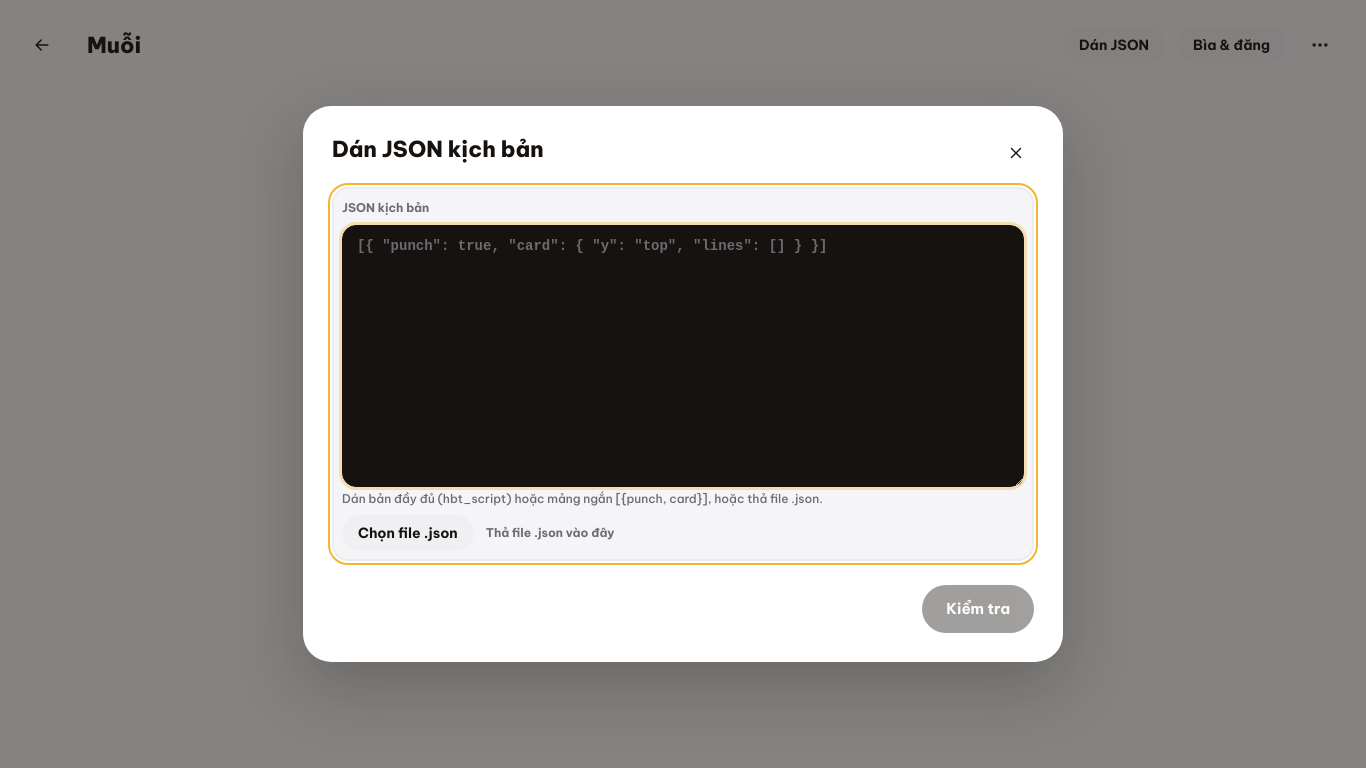
Test: PasteJsonDialog — Dán và Kiểm tra › marks K10 block warnings as "Sẽ chặn xuất"
The image size is (1366, 768).
Type "[]" into the text box labelled "JSON kịch bản". click: (683, 356)
box: [342,225,1024,487]
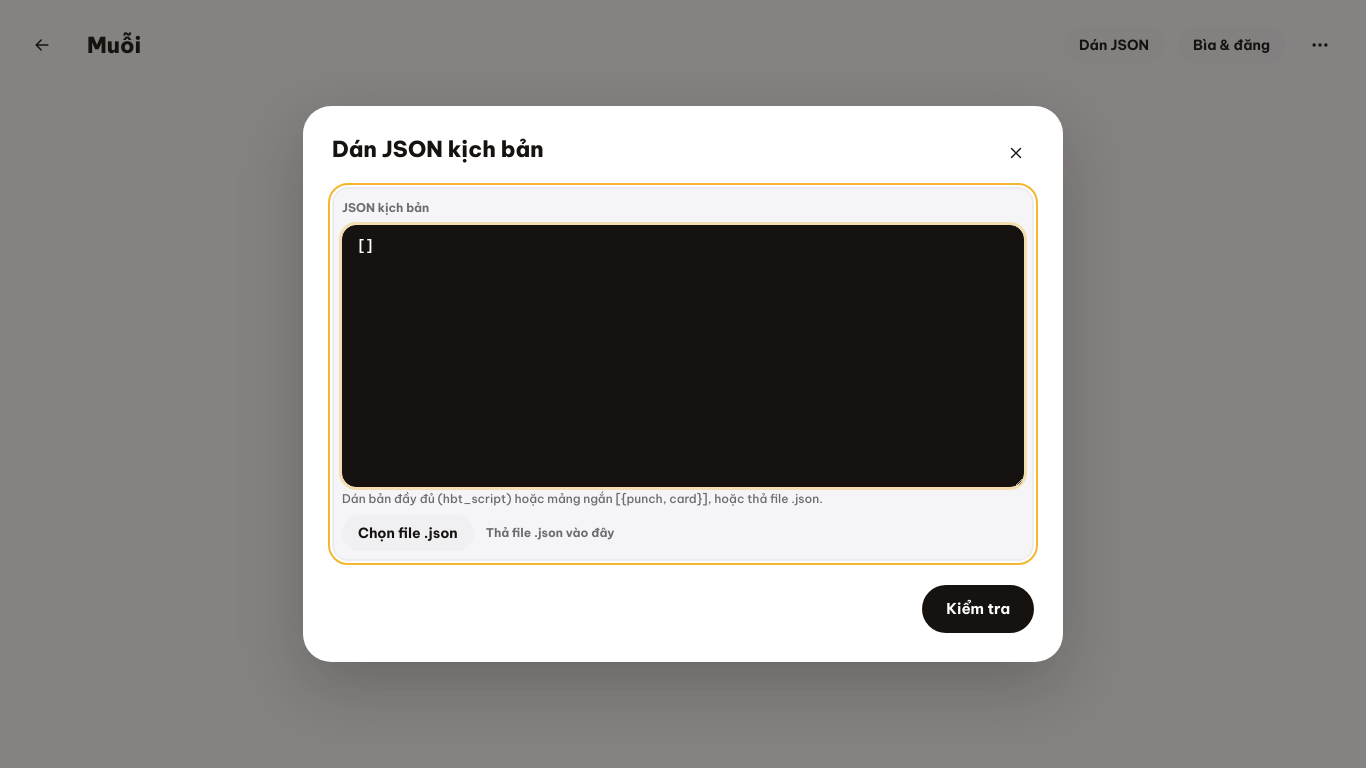
Click the button "Kiểm tra". click: (978, 609)
box: [922,585,1034,633]
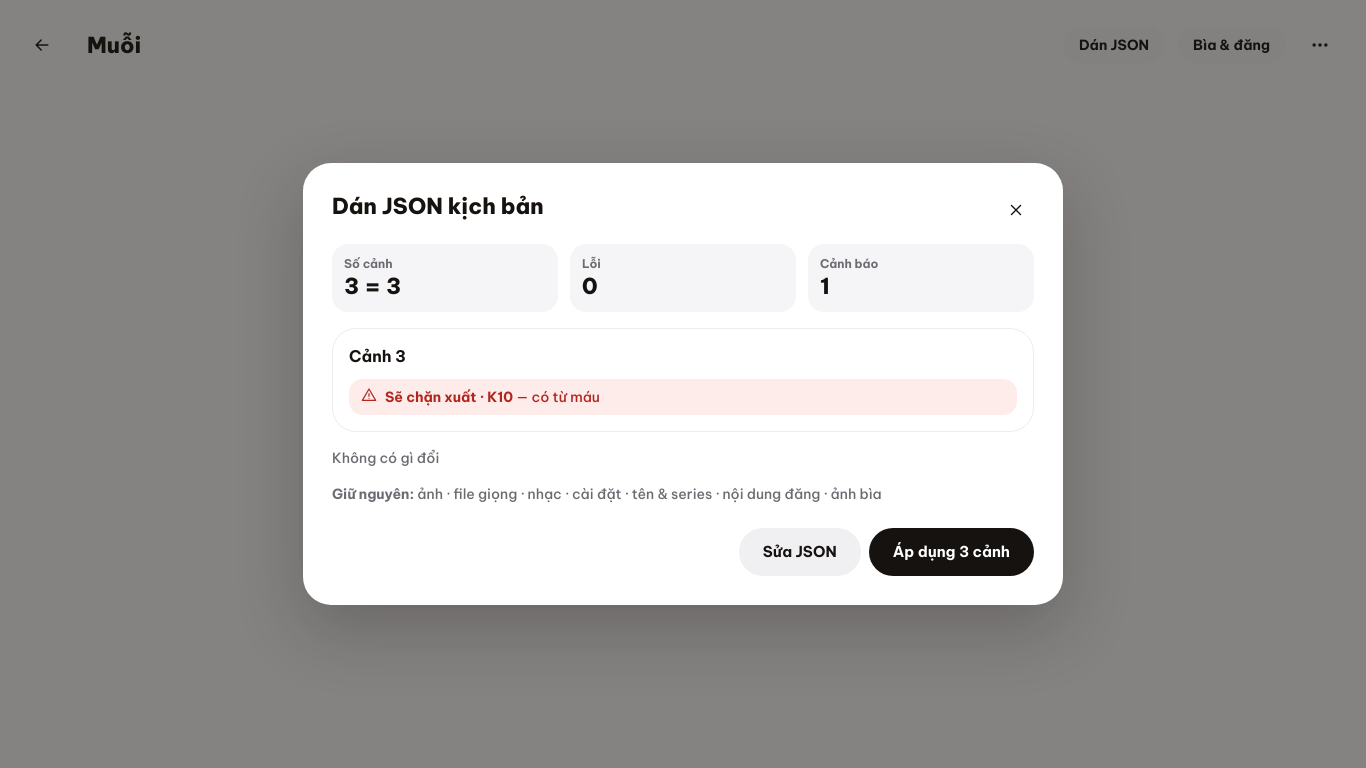
expect the text "Sẽ chặn xuất · K10" is shown: met, box [385,388,513,406]
